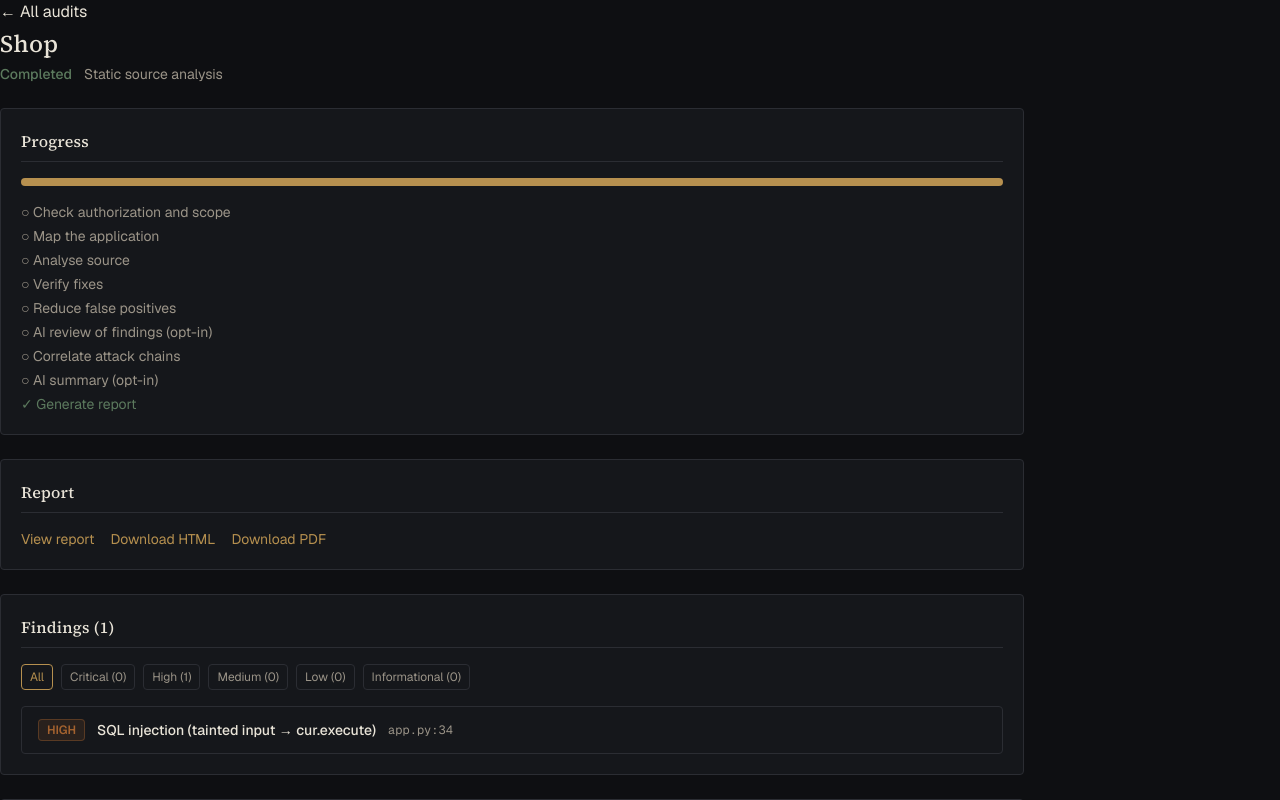
Scenario: AuditDetailPage › shows a verified fix's diff when one exists
Click the text "SQL injection (tainted input → cur.execute)" at (237,730), box x1=97 y1=720 x2=376 y2=740
(page scrolled)
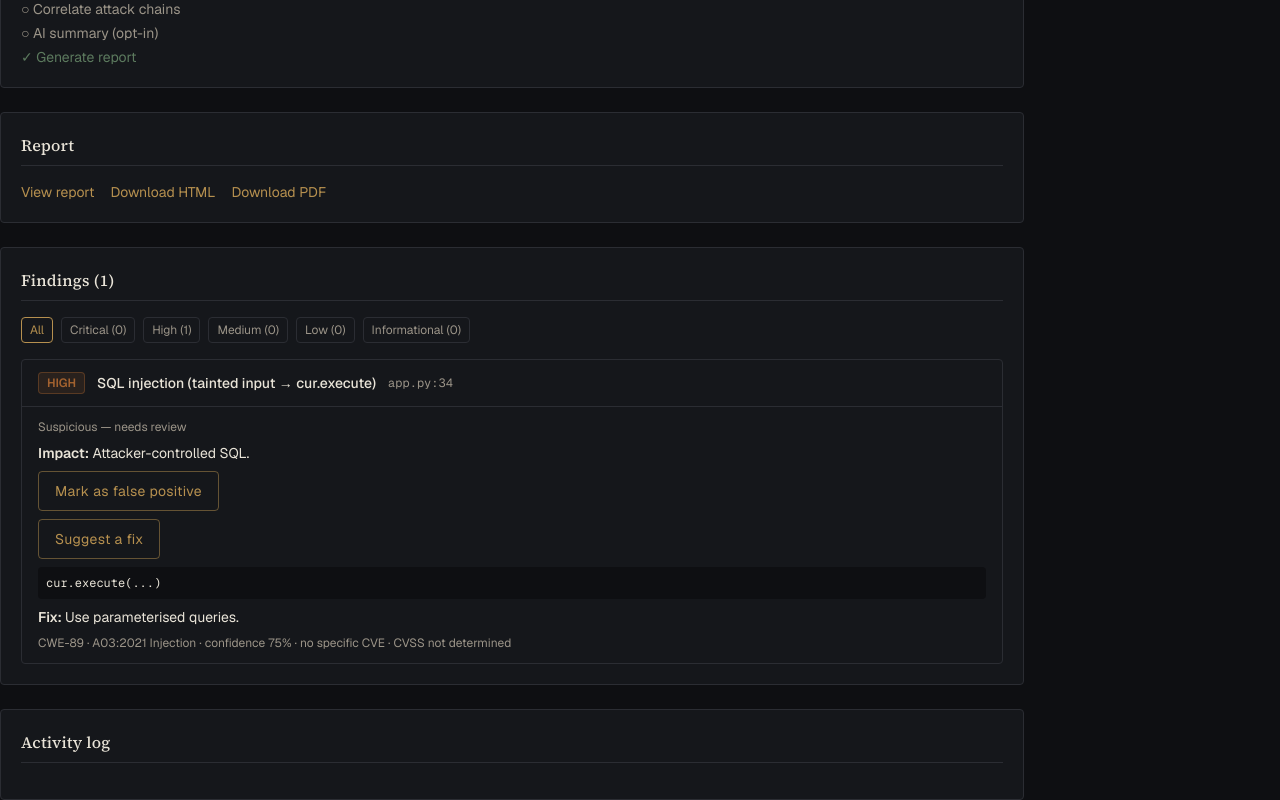
Click the button "Suggest a fix" at (99,539), box x1=38 y1=519 x2=160 y2=559
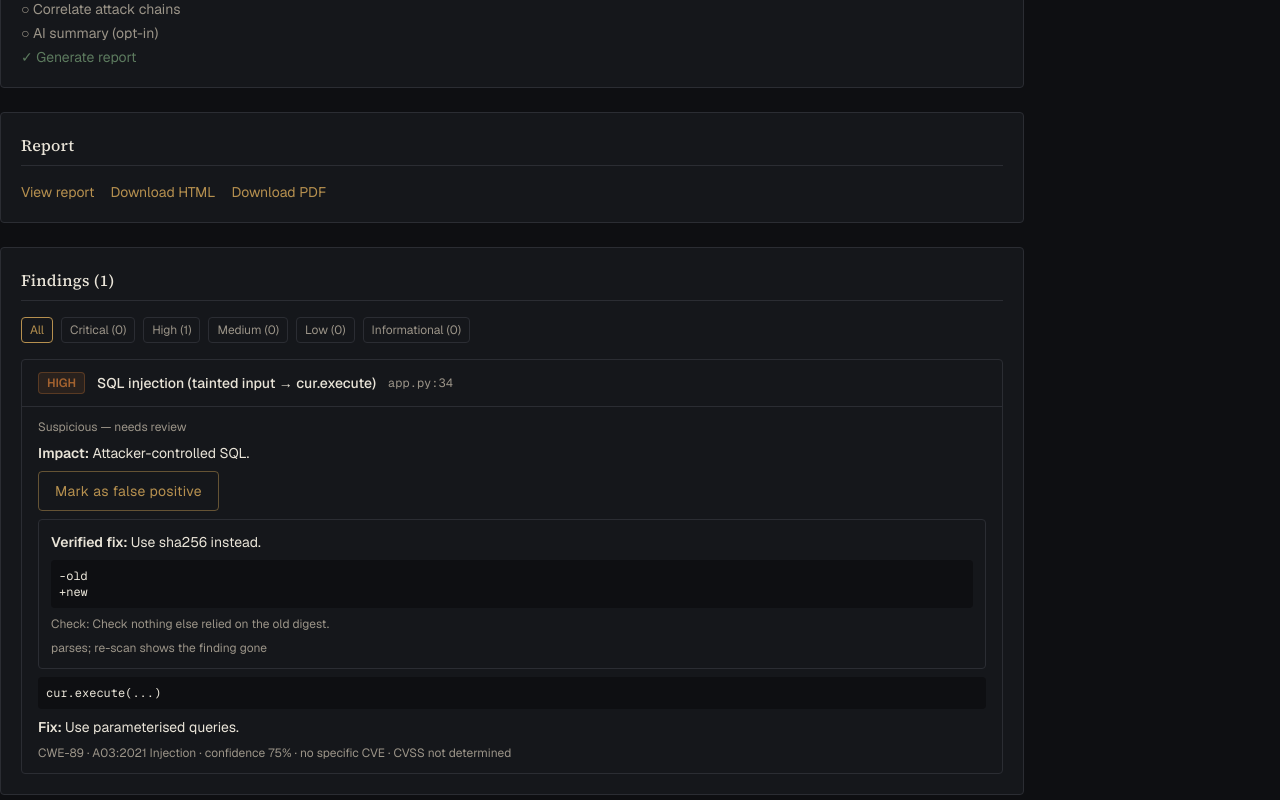
Result: the text "Verified fix:" is shown at x1=51 y1=533 x2=131 y2=551
Result: the text "Use sha256 instead." is shown at x1=131 y1=533 x2=261 y2=551
Result: the text "-old +new" is shown at x1=51 y1=560 x2=973 y2=608
